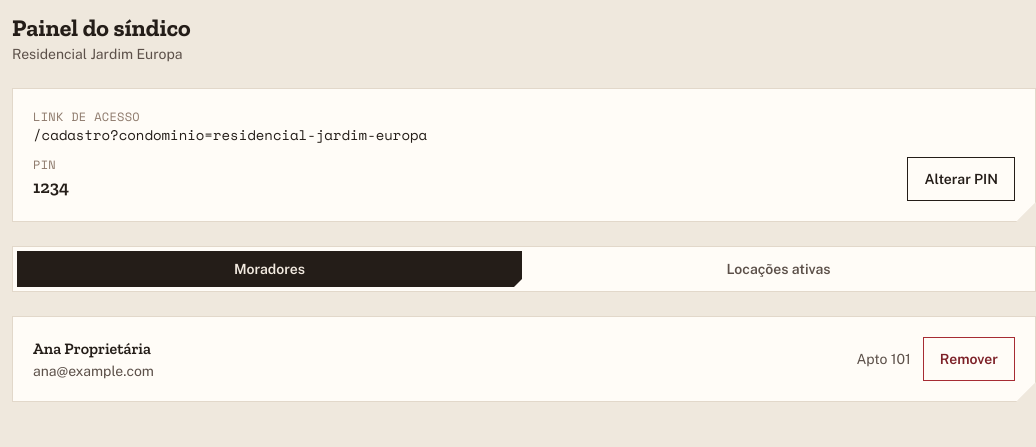
Test: SindicoPage › mostra as locações ativas ao trocar de aba
The image size is (1036, 447).
Expected: the text "Ana Proprietária" is shown, left=33, top=337, right=154, bottom=361
Click the button "Locações ativas" at (778, 269), box left=526, top=251, right=1031, bottom=287
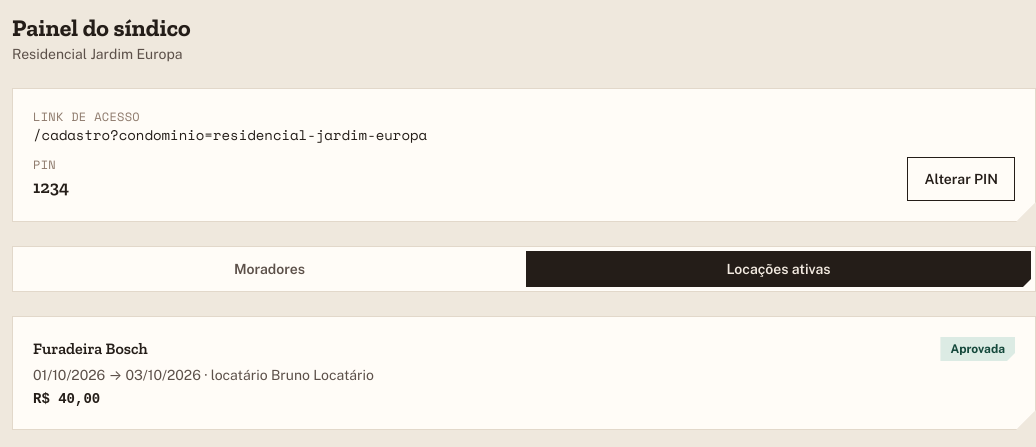
Expected: the text "Furadeira Bosch" is shown, left=33, top=337, right=148, bottom=361
